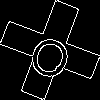O: (25, 25, 78, 82)
